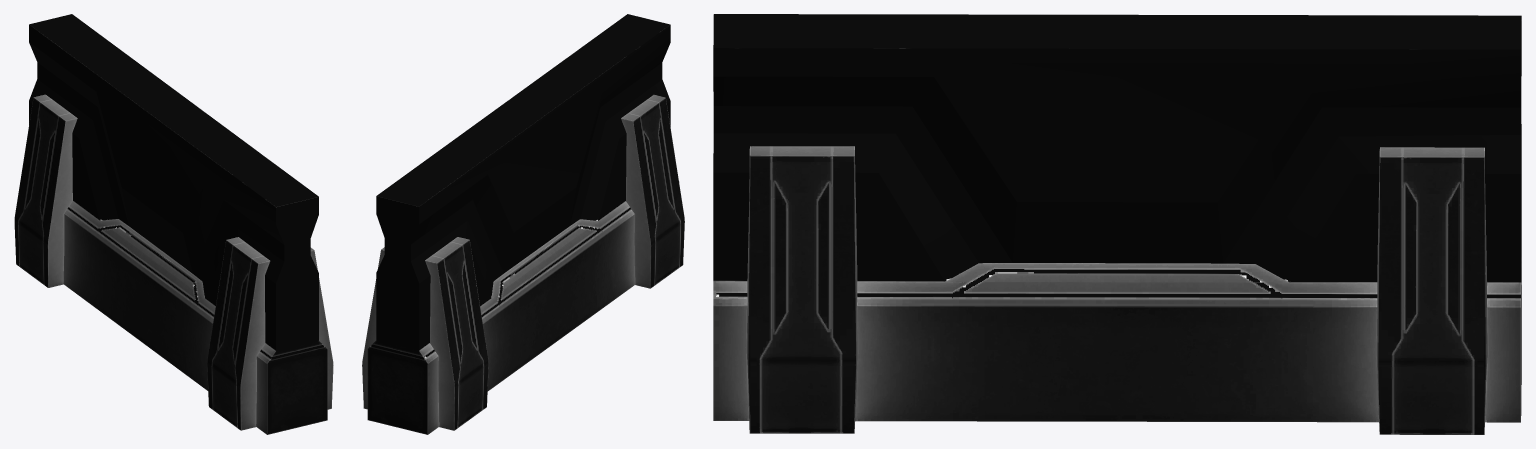
Rendered from propRoadsideBlock.glb.
3 renders of one model, left to right at view 1: azimuth 30°, elevation 25°; view 2: azimuth 150°, elevation 25°; view 3: azimuth 270°, elevation 25°, orthographic. The views are drawn at different scales.
Visible parts, largest first — view 1: propRoadsideBlock; view 2: propRoadsideBlock; view 3: propRoadsideBlock.
Part boxes in pixels (bbox=[...]): propRoadsideBlock: bbox=[14, 14, 333, 434]; propRoadsideBlock: bbox=[362, 14, 684, 434]; propRoadsideBlock: bbox=[713, 14, 1521, 434].
Size of the model in its own units: 0.5481 by 1.25 by 2.5.
Materials: 1 (1 with a texture image).
